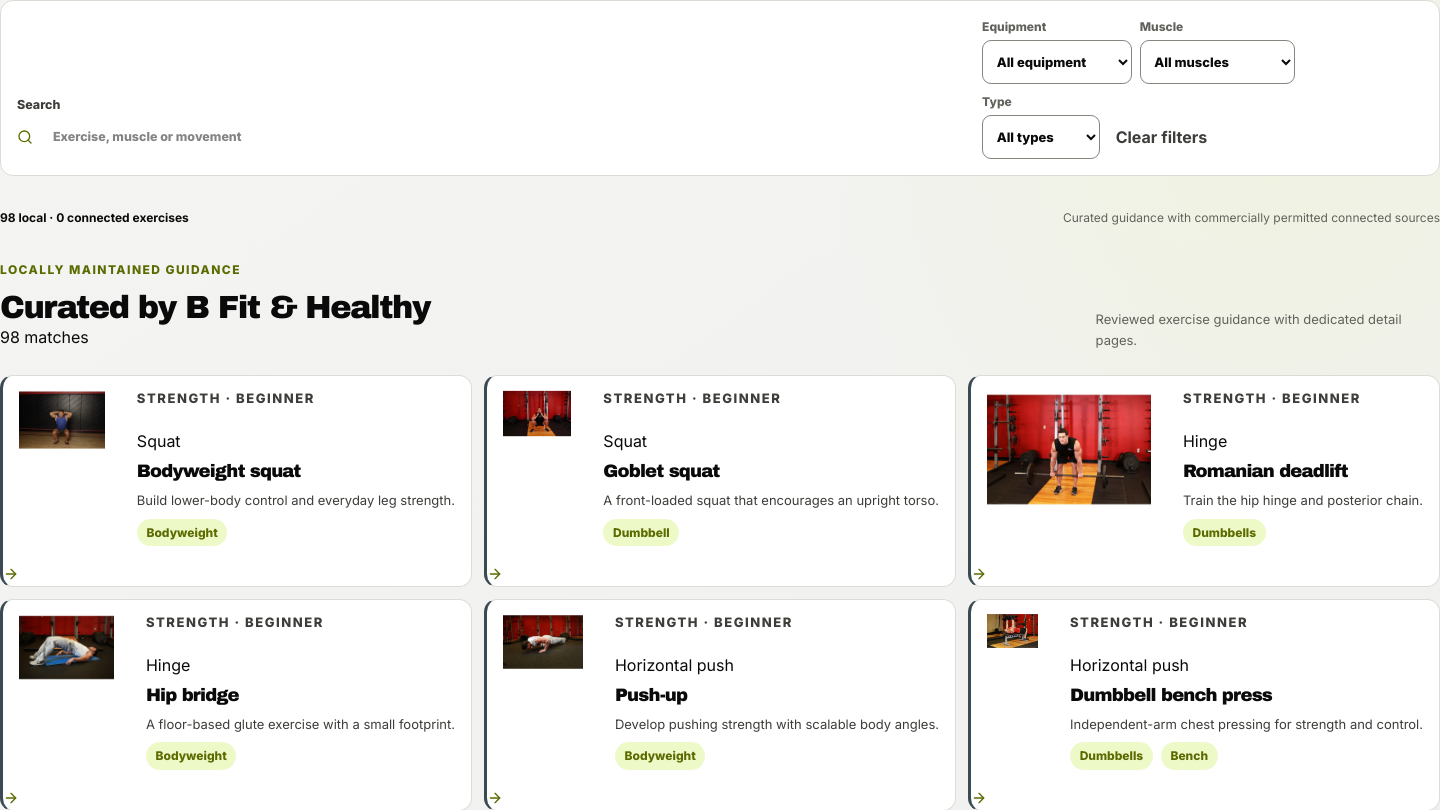
Test: ExerciseLibrary › explains when only connected exercises match
In the search field: (506, 137) 41,115 -> 970,159, type "remote-only"
Wait 275 ms
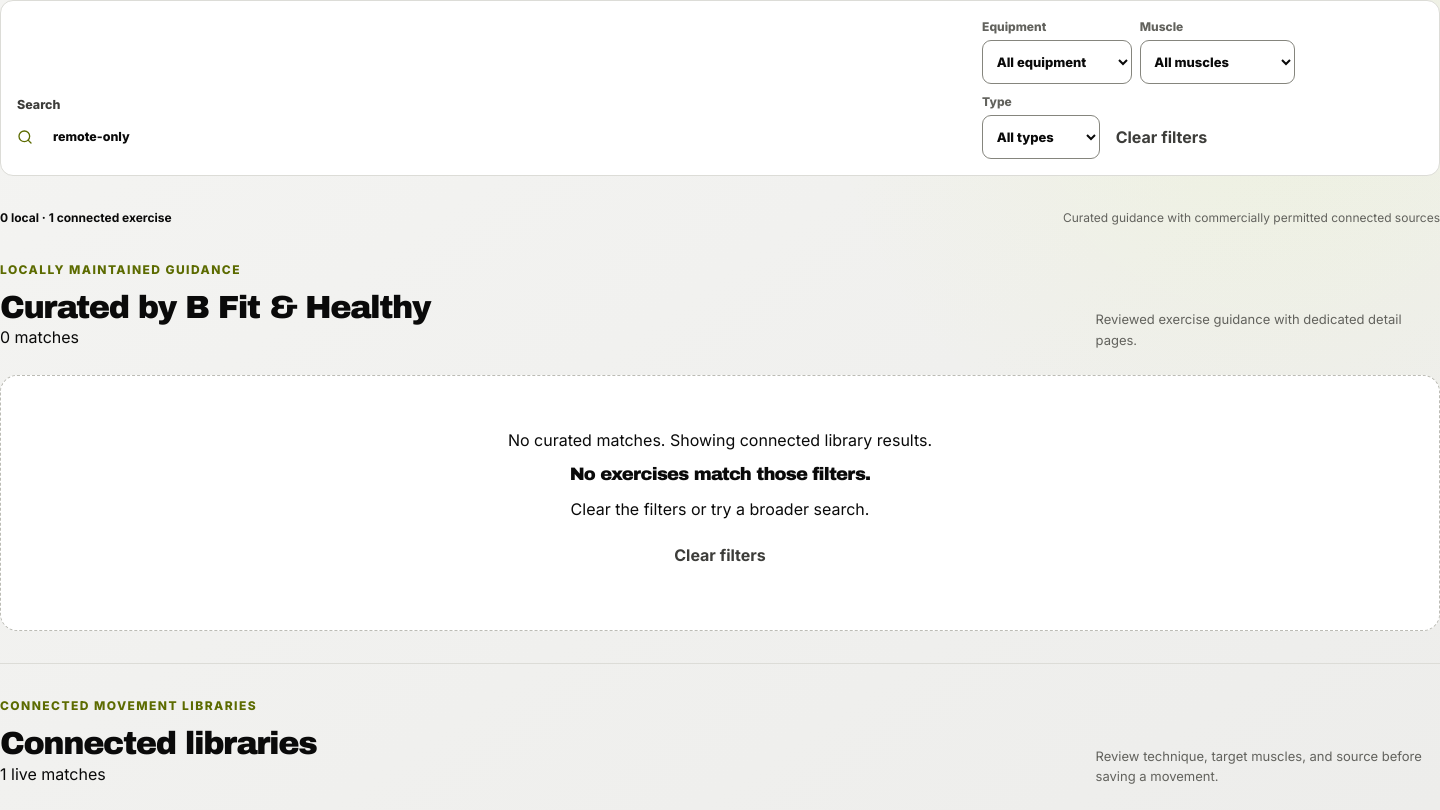
Now the text "No curated matches. Showing connected library results." is shown, box 508,428 -> 932,453
